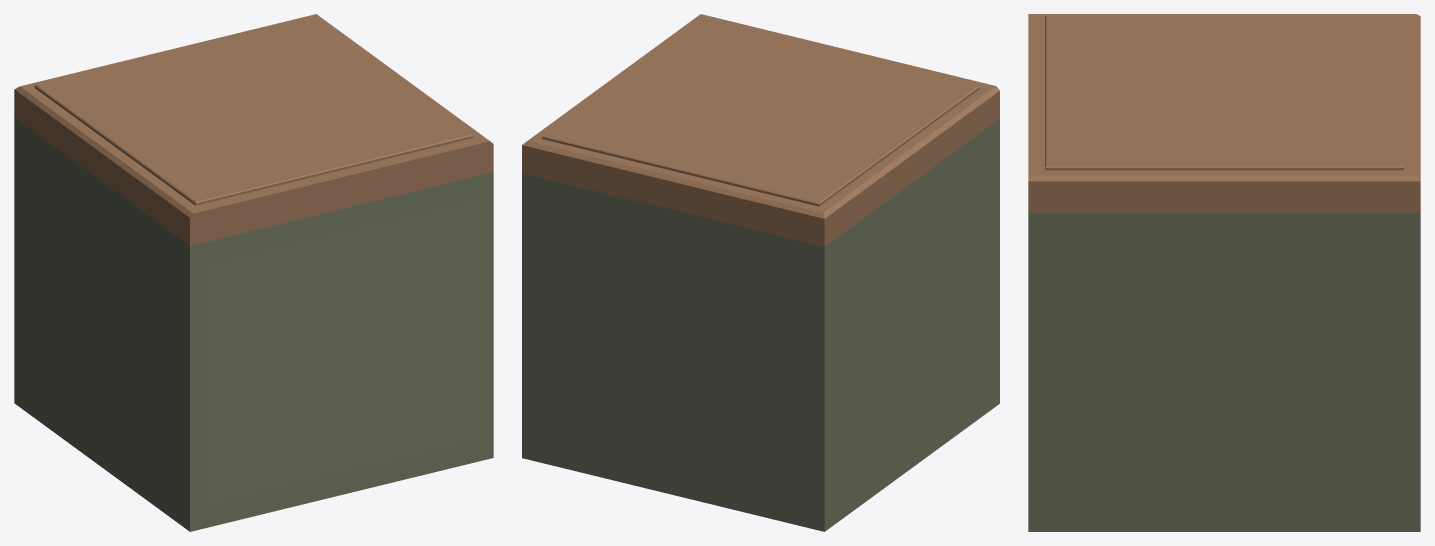
The model's file is CornerCounter.glb.
The picture shows the model from 3 angles, left to right: view 1: azimuth 30°, elevation 25°; view 2: azimuth 150°, elevation 25°; view 3: azimuth 270°, elevation 25°; orthographic projection. The views are drawn at different scales.
Visible parts, largest first — view 1: Corner Counter; view 2: Corner Counter; view 3: Corner Counter.
Part boxes in pixels (left/top/right/bottom): Corner Counter: left=14, top=14, right=493, bottom=531; Corner Counter: left=522, top=14, right=999, bottom=531; Corner Counter: left=1028, top=14, right=1420, bottom=531.
Size of the model in its own units: 1 by 1.01 by 1.
1 material, 1 textured.
